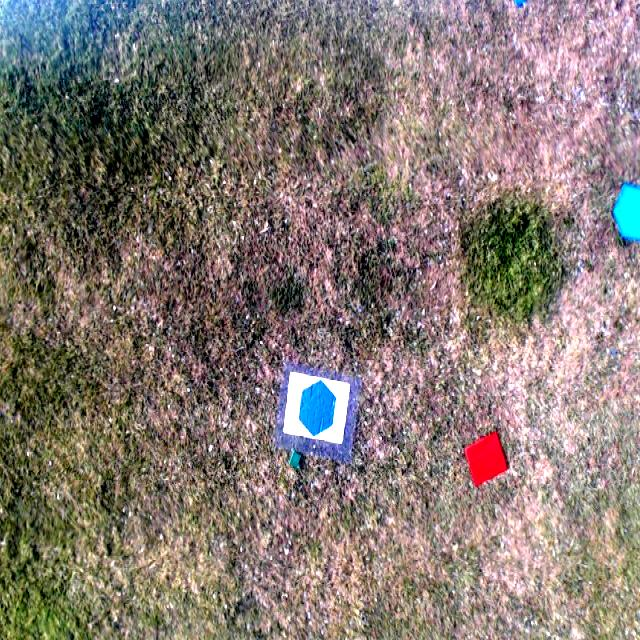blue_hexagon: (296, 375, 338, 438)
red_square: (461, 431, 509, 490)
